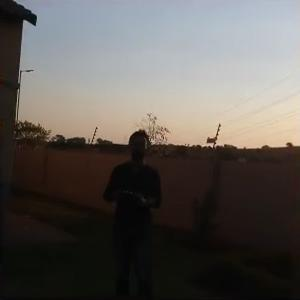follow: (100, 124, 165, 296)
